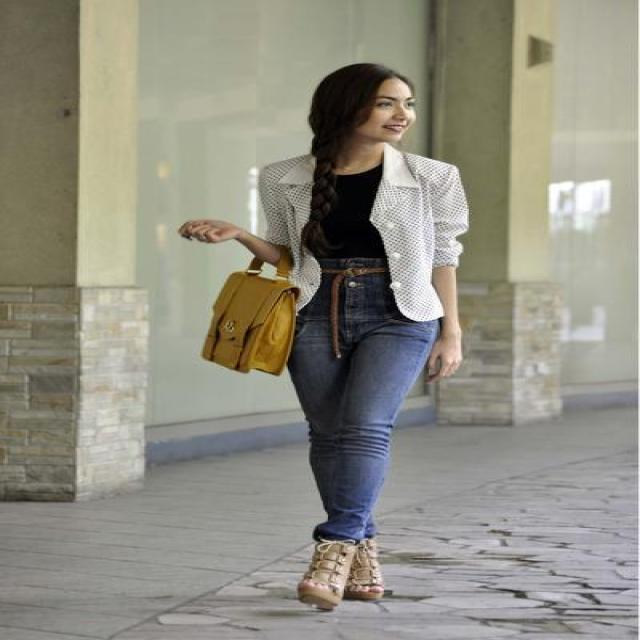bag: (202, 249, 299, 370)
jacket: (258, 143, 467, 330)
pants: (288, 257, 448, 547)
shirt: (334, 166, 389, 264)
shoe: (291, 539, 402, 611)
